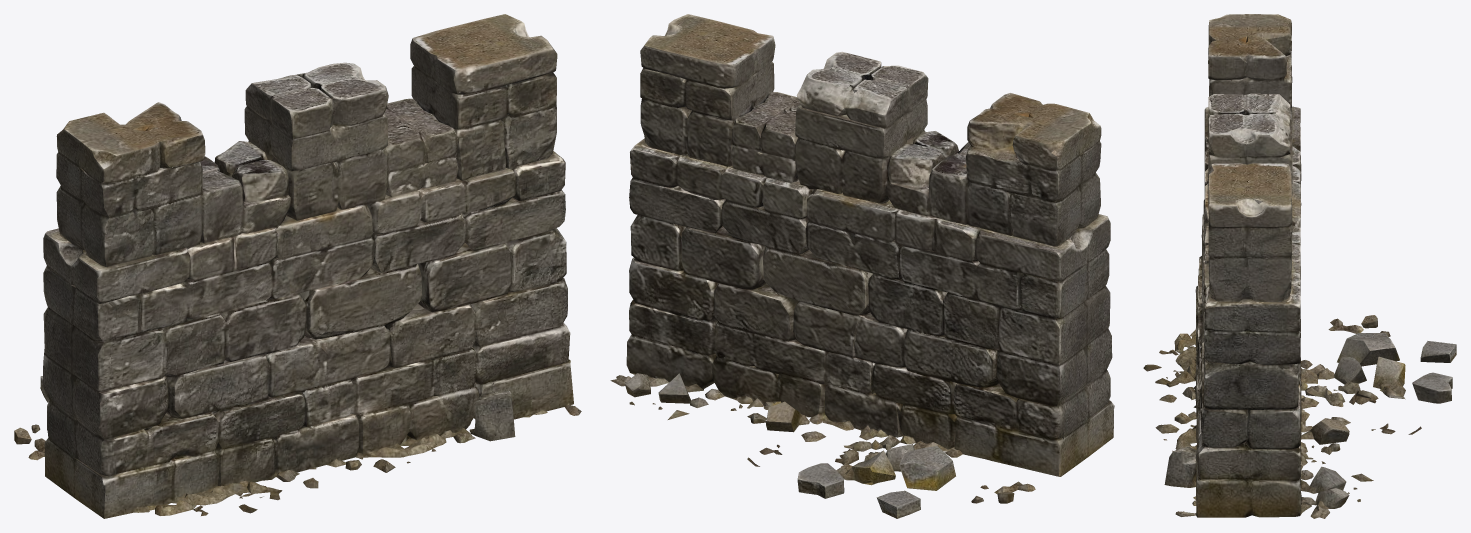
File: fort_m_savanna_wall.glb
3 renders of one model, left to right at view 1: azimuth 30°, elevation 25°; view 2: azimuth 150°, elevation 25°; view 3: azimuth 270°, elevation 25°, orthographic. The views are drawn at different scales.
Parts seen in each view (by area): view 1: fort_m_savanna_wall; view 2: fort_m_savanna_wall; view 3: fort_m_savanna_wall.
Boxes of the visible parts, x1,y1,x2,y2 form: fort_m_savanna_wall: (14, 14, 581, 518); fort_m_savanna_wall: (610, 14, 1114, 518); fort_m_savanna_wall: (1143, 14, 1456, 518).
Size of the model in its own units: 1.9 by 1.35 by 1.25.
1 material, 1 textured.
